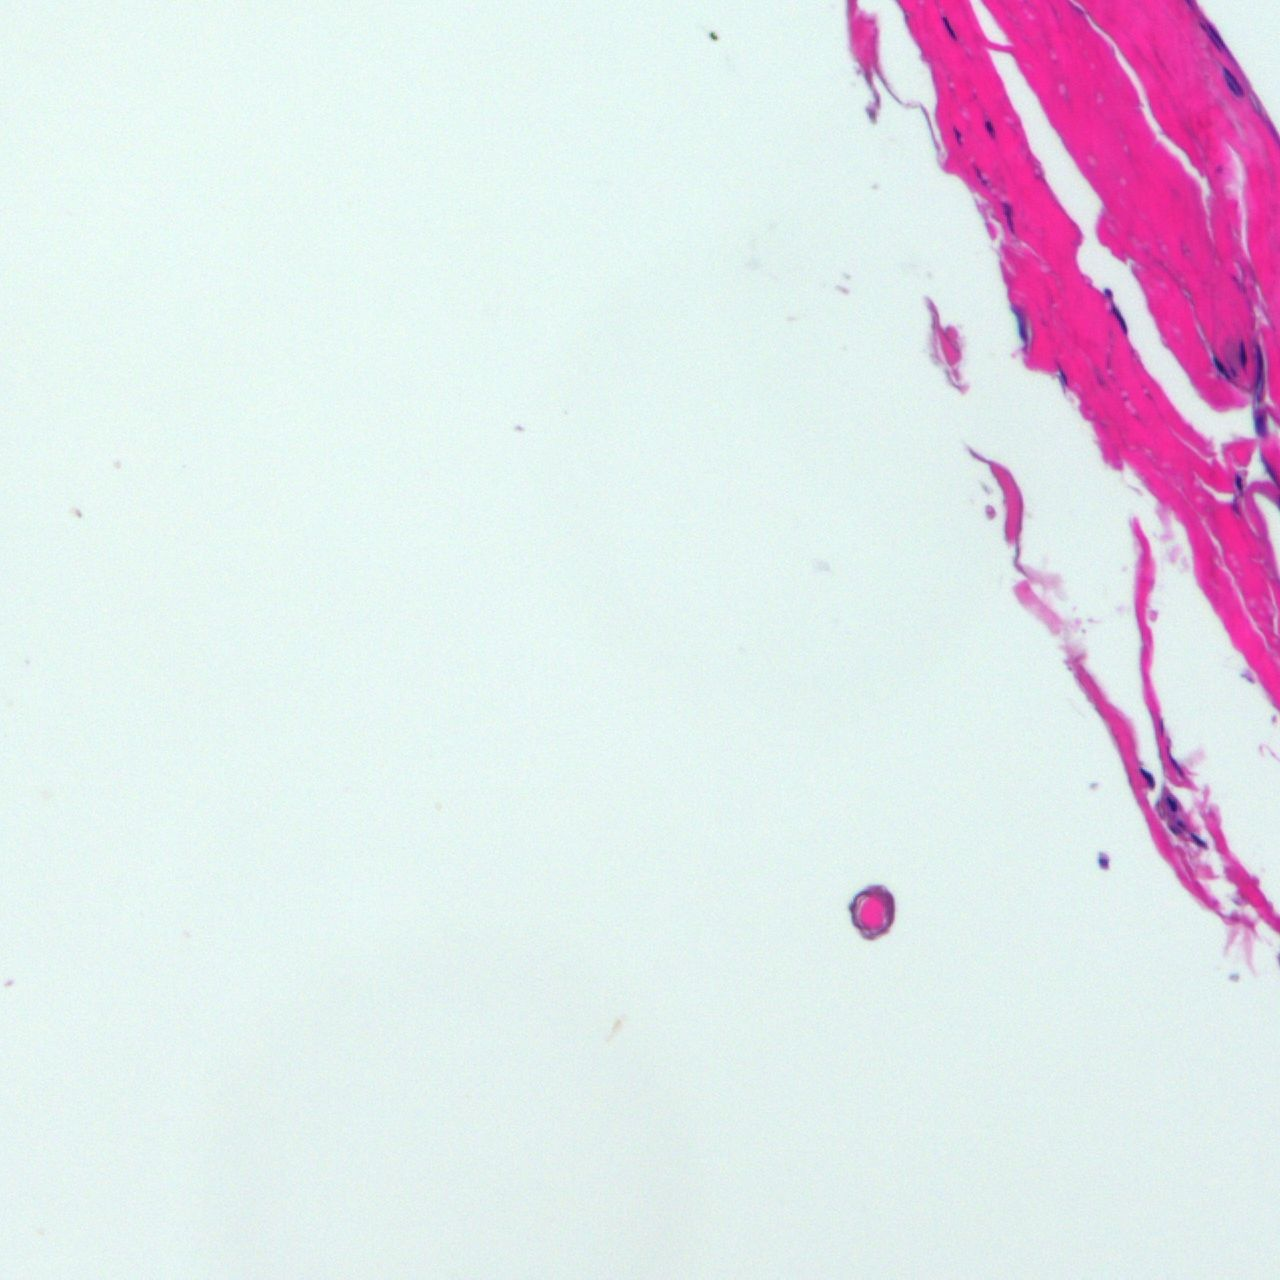nucleus-HE: (1252, 343, 1269, 435), (1099, 286, 1131, 333), (1008, 302, 1035, 352), (1216, 64, 1247, 100), (1200, 18, 1228, 56), (1160, 745, 1189, 779), (1210, 354, 1232, 382), (937, 13, 956, 40), (1137, 765, 1157, 789), (1189, 832, 1208, 850), (1003, 199, 1013, 234), (1238, 341, 1246, 368), (1058, 368, 1070, 386), (1166, 794, 1177, 812), (1175, 818, 1189, 832), (985, 116, 993, 138), (1167, 823, 1180, 837), (952, 125, 960, 144), (1235, 474, 1242, 491)
